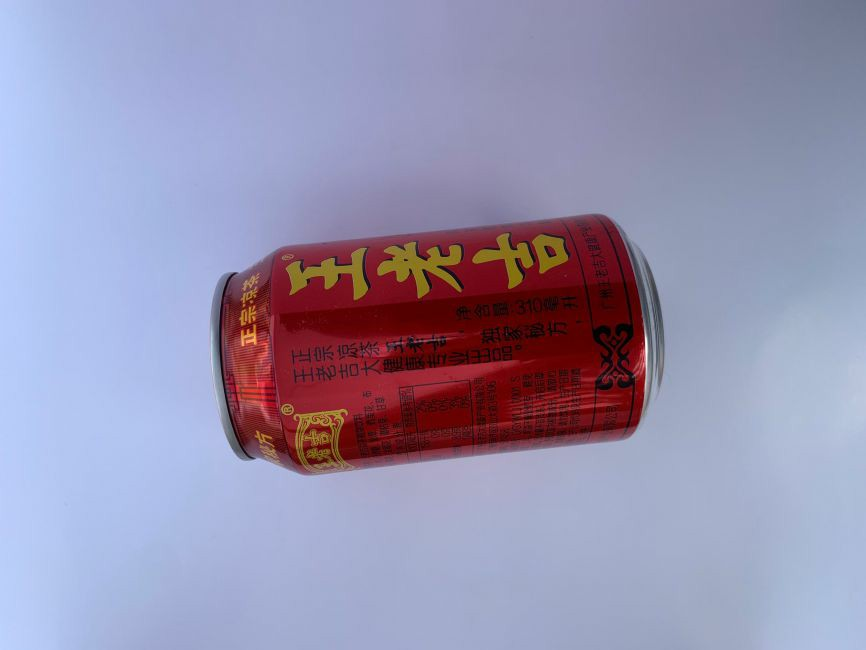can: (178, 194, 703, 486)
